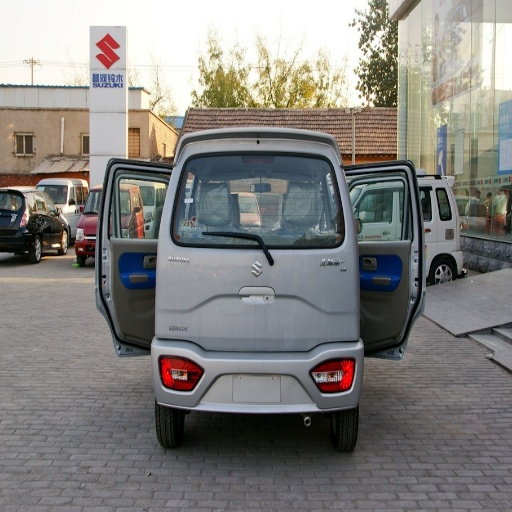back_bumper: (147, 335, 366, 413)
trunk: (118, 219, 437, 351)
